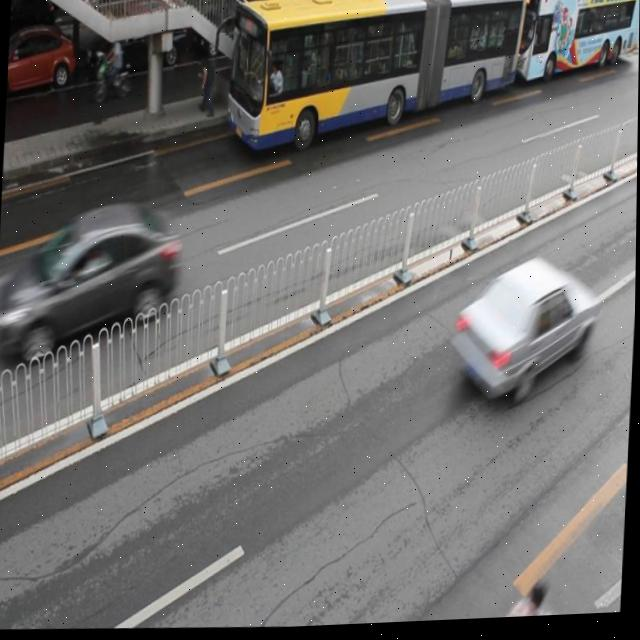car: (0, 195, 178, 366), (447, 258, 595, 405), (84, 7, 188, 76), (7, 23, 78, 99), (195, 0, 274, 64), (285, 0, 366, 59)
van: (228, 0, 525, 153), (492, 0, 640, 85)
